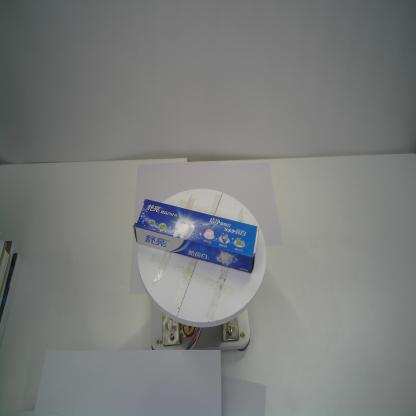Personal Hygiene: (131, 197, 261, 274)
